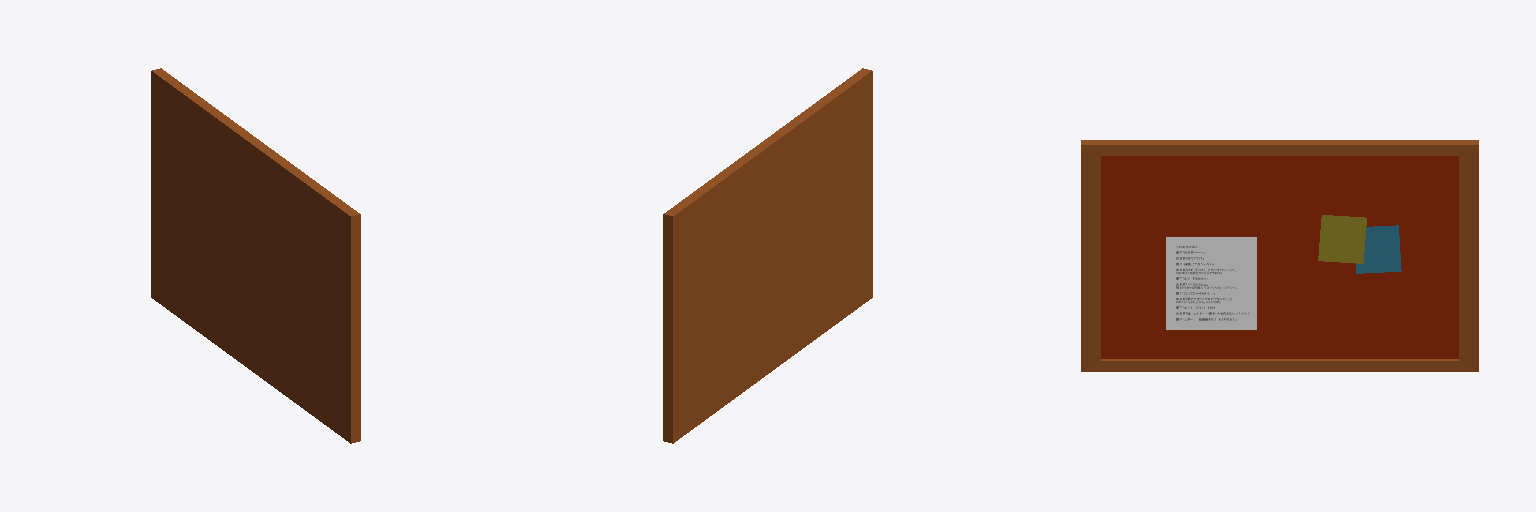
The picture shows the model from 3 angles: view 1: azimuth 30°, elevation 25°; view 2: azimuth 150°, elevation 25°; view 3: azimuth 270°, elevation 25°; orthographic projection.
Parts seen in each view (by area): view 1: Frame_立方体; view 2: Frame_立方体; view 3: Cork_立方体.001, Frame_立方体, Memo1_平面, Memo1.001_平面.001, Memo1.002_平面.002.
Boxes of the visible parts, <box> form: Frame_立方体: <box>151,68,360,443</box>; Frame_立方体: <box>663,68,872,443</box>; Cork_立方体.001: <box>1101,156,1458,358</box>; Frame_立方体: <box>1081,140,1478,371</box>; Memo1_平面: <box>1166,237,1256,329</box>; Memo1.001_平面.001: <box>1318,215,1366,263</box>; Memo1.002_平面.002: <box>1355,225,1401,273</box>.
Size of the model in its own units: 0.01 by 0.22 by 0.35.
5 materials, 1 textured.